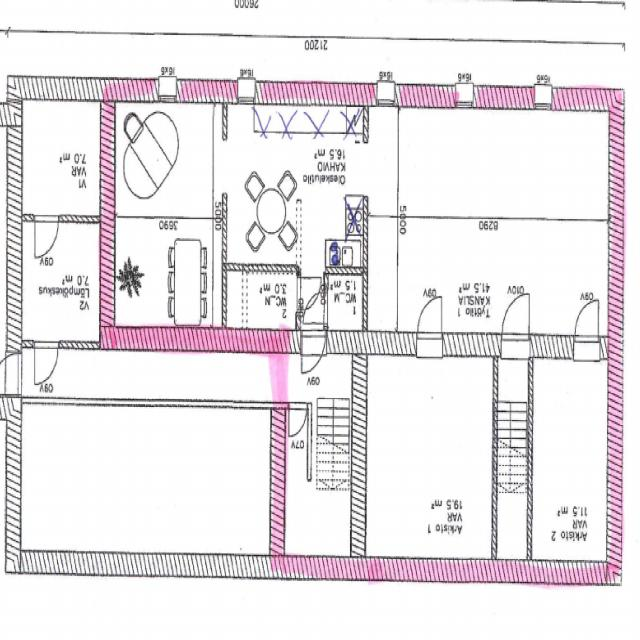door: (573, 287, 600, 353), (501, 288, 528, 352), (416, 289, 442, 353), (301, 330, 323, 386), (296, 276, 322, 310), (302, 292, 328, 326)
